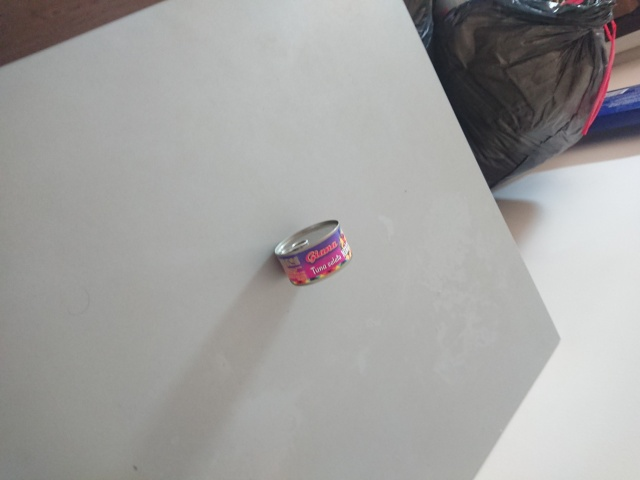Giana Tuna Salad Mexico 185g: (271, 217, 353, 289)
